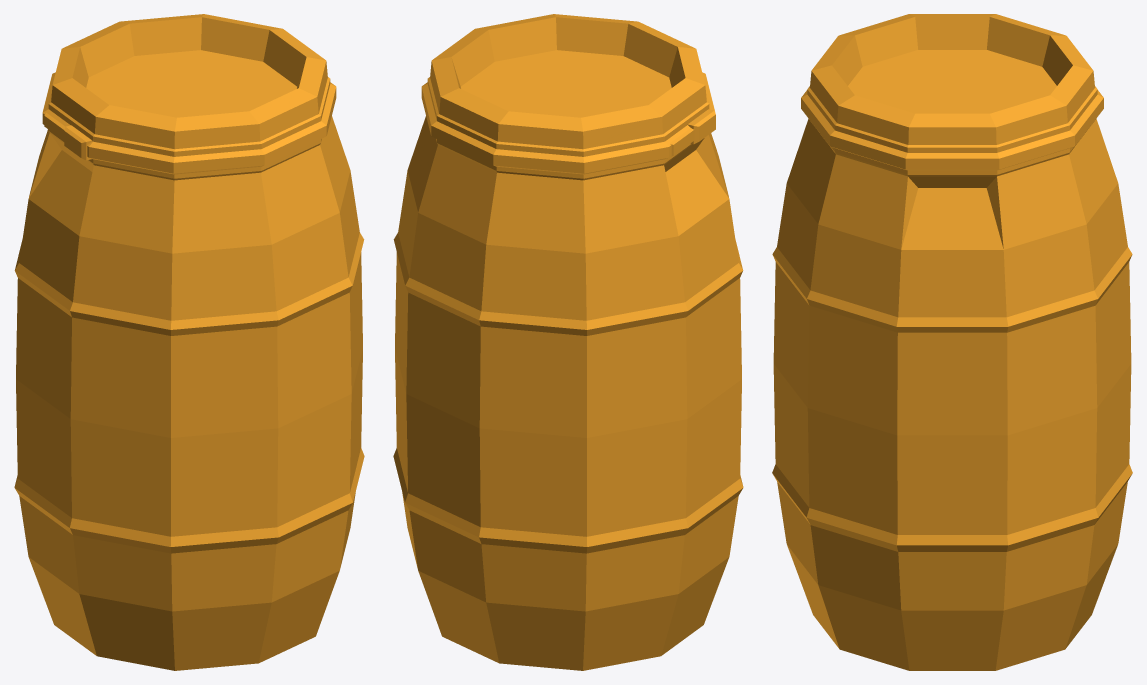
The model's file is SM_Barrel_Plastic_Closed.fbx.
3 renders of one model, left to right at view 1: azimuth 30°, elevation 25°; view 2: azimuth 150°, elevation 25°; view 3: azimuth 270°, elevation 25°, orthographic.
Visible parts, largest first — view 1: barrel-plastic-closed; view 2: barrel-plastic-closed; view 3: barrel-plastic-closed.
Part boxes in pixels (left/top/right/bottom): barrel-plastic-closed: left=14, top=14, right=364, bottom=670; barrel-plastic-closed: left=393, top=14, right=743, bottom=670; barrel-plastic-closed: left=772, top=14, right=1132, bottom=670.
Size of the model in its own units: 0.5691 by 1.02 by 0.5984.
